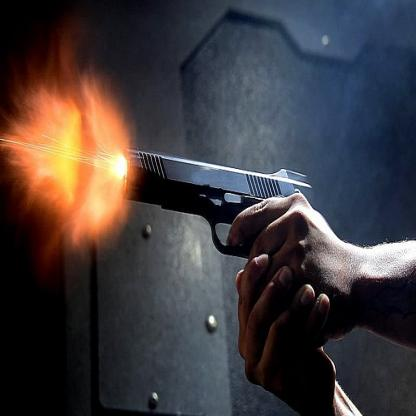handgun: (122, 140, 312, 366), (123, 146, 315, 344)
